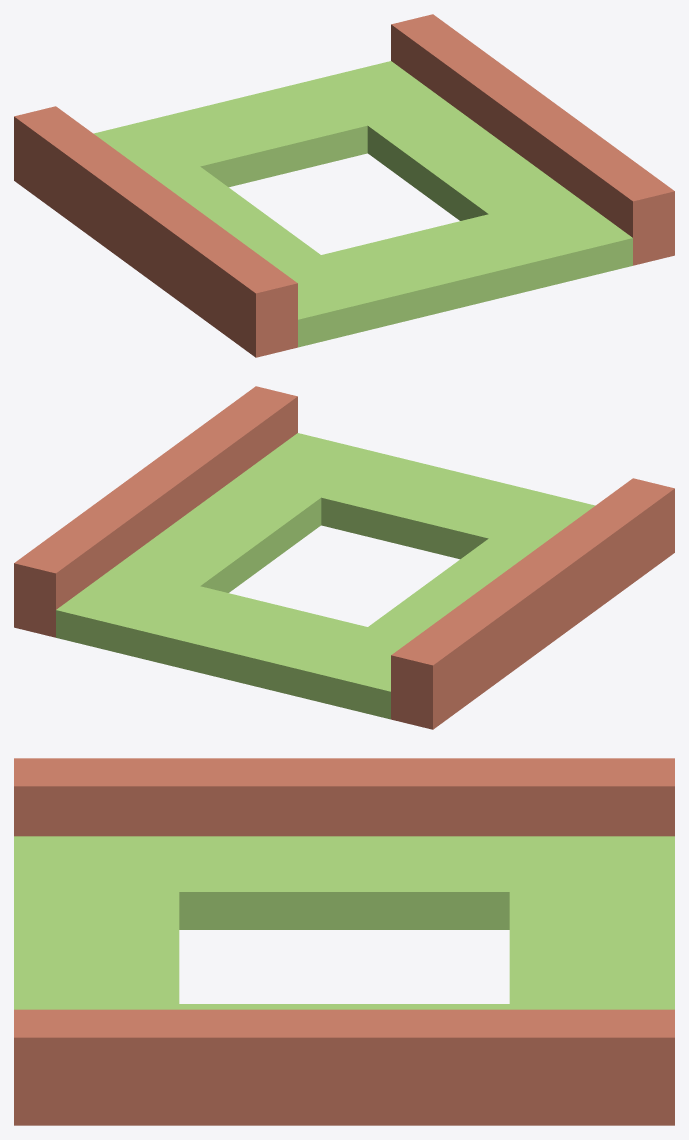
File: Gap_01.glb
The picture shows the model from 3 angles, top to bottom: view 1: azimuth 30°, elevation 25°; view 2: azimuth 150°, elevation 25°; view 3: azimuth 270°, elevation 25°; orthographic projection. The views are drawn at different scales.
Visible parts, largest first — view 1: Mesh1 Gap Model; view 2: Mesh1 Gap Model; view 3: Mesh1 Gap Model.
Part boxes in pixels (x1,y1,x2,y2): Mesh1 Gap Model: (14,14,674,357); Mesh1 Gap Model: (14,386,674,729); Mesh1 Gap Model: (14,758,674,1125).
Bounding box in the file's own units: 3 × 0.44 × 3.
